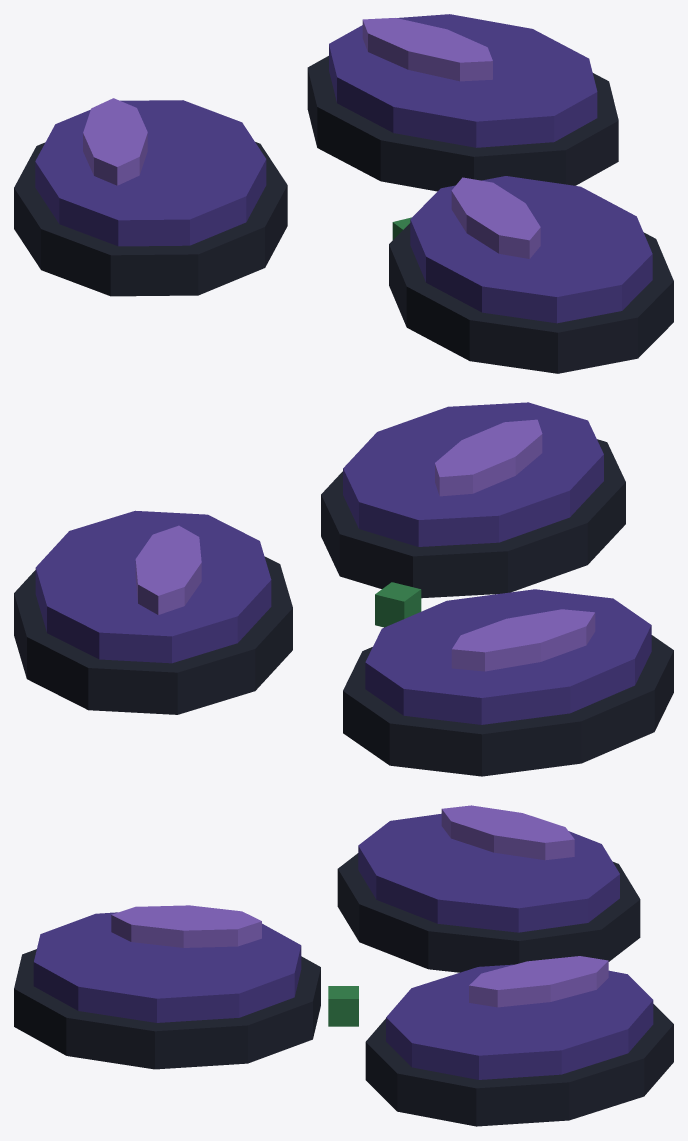
The model's file is berry_seeds.fbx.
3 renders of one model, top to bottom at view 1: azimuth 30°, elevation 25°; view 2: azimuth 150°, elevation 25°; view 3: azimuth 270°, elevation 25°, orthographic. The views are drawn at different scales.
Parts seen in each view (by area): view 1: berry_seeds__Icon; view 2: berry_seeds__Icon, berry_seeds__Origin; view 3: berry_seeds__Icon, berry_seeds__Origin.
Boxes of the visible parts, left/top/right/bottom form: berry_seeds__Icon: left=14, top=14, right=673, bottom=373; berry_seeds__Icon: left=14, top=402, right=673, bottom=776; berry_seeds__Origin: left=375, top=582, right=421, bottom=627; berry_seeds__Icon: left=14, top=805, right=673, bottom=1126; berry_seeds__Origin: left=328, top=986, right=358, bottom=1026.
Size of the model in its own units: 0.8075 by 0.145 by 0.8619.
1 material, 1 textured.
